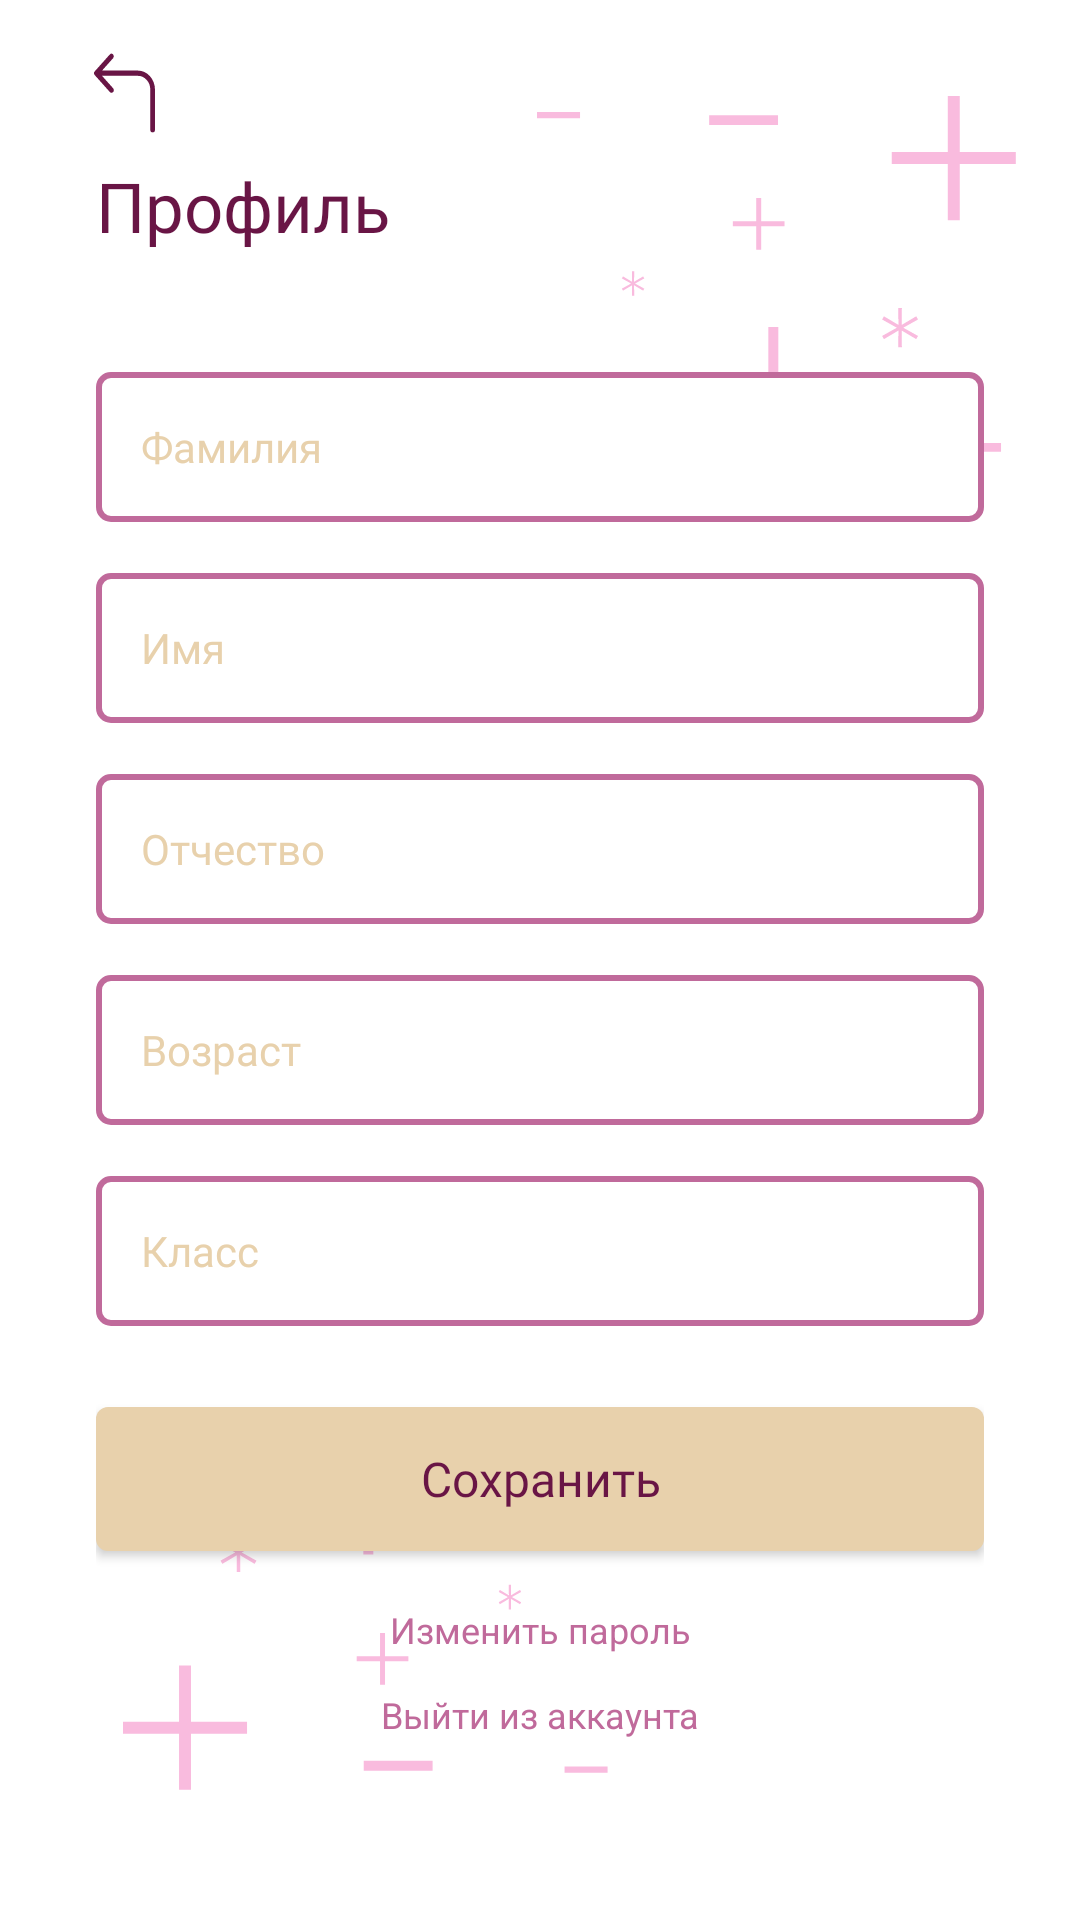

Named icons in this screenshot (1080 x 1920) and their centers, (x=x, y=y):
arrow back: (x=124, y=93)
